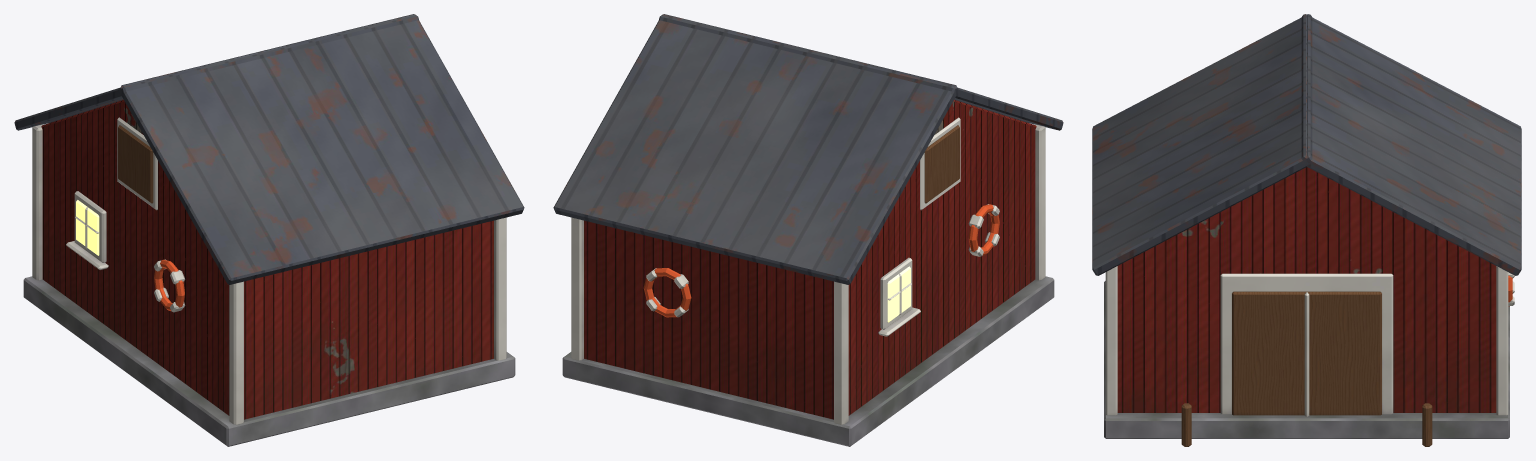
Rendered from sjobod_tex.glb.
The picture shows the model from 3 angles, left to right: view 1: azimuth 30°, elevation 25°; view 2: azimuth 150°, elevation 25°; view 3: azimuth 270°, elevation 25°; orthographic projection.
Parts seen in each view (by area): view 1: sjobod; view 2: sjobod; view 3: sjobod.
Part boxes in pixels (x1,y1,x2,y2): sjobod: (14, 14, 524, 446); sjobod: (553, 14, 1063, 446); sjobod: (1092, 14, 1521, 446).
Bounding box in the file's own units: 4.92 × 4.19 × 5.71.
7 materials, 5 textured.
